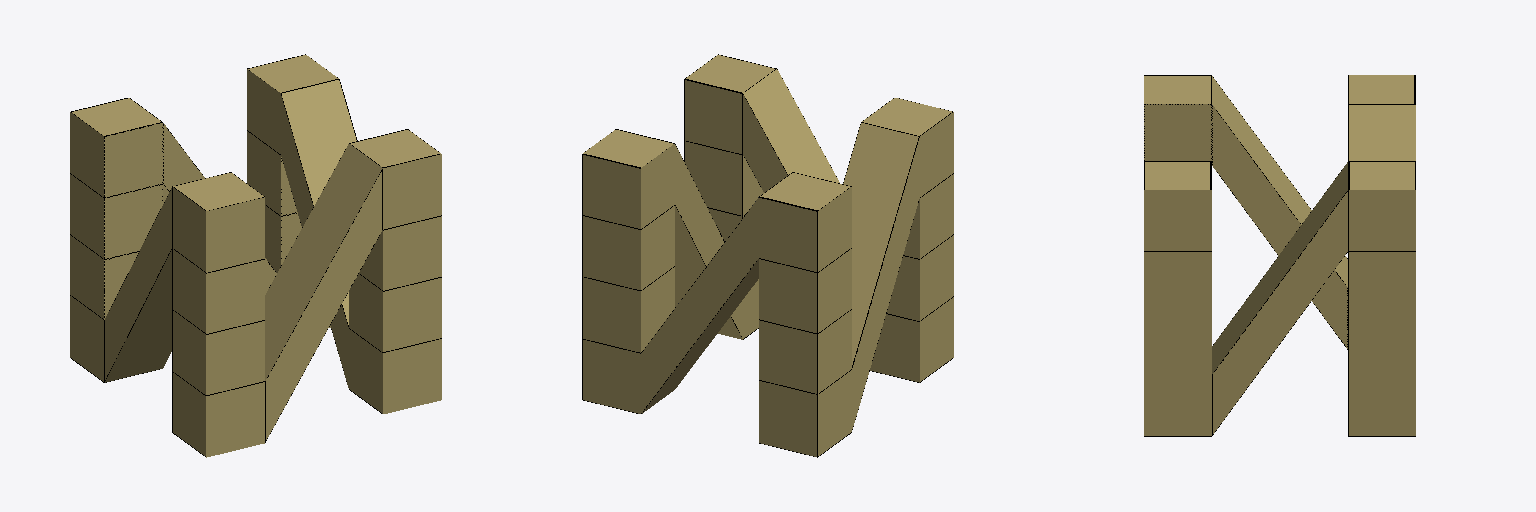
3 renders of one model, left to right at view 1: azimuth 30°, elevation 25°; view 2: azimuth 150°, elevation 25°; view 3: azimuth 270°, elevation 25°, orthographic.
Visible parts, largest first — view 1: base_Plane; view 2: base_Plane; view 3: base_Plane.
Part boxes in pixels (left/top/right/bottom): base_Plane: left=70, top=54, right=441, bottom=457; base_Plane: left=582, top=54, right=953, bottom=457; base_Plane: left=1144, top=75, right=1415, bottom=436.
Size of the model in its own units: 2 by 2 by 2.
1 materials, 1 textured.